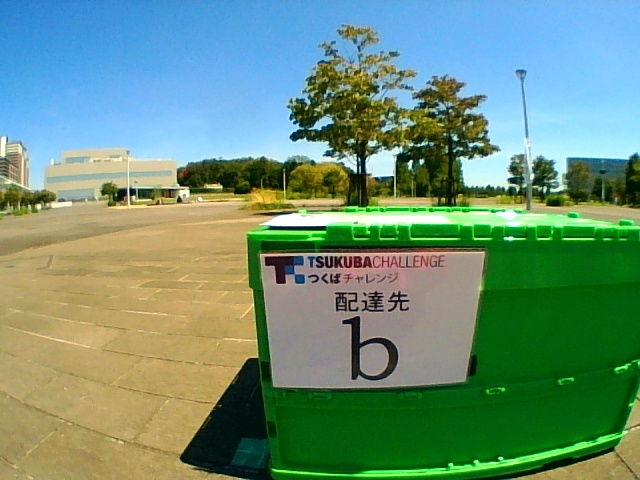green_box: (247, 206, 637, 480)
tag_b: (274, 253, 466, 382)
